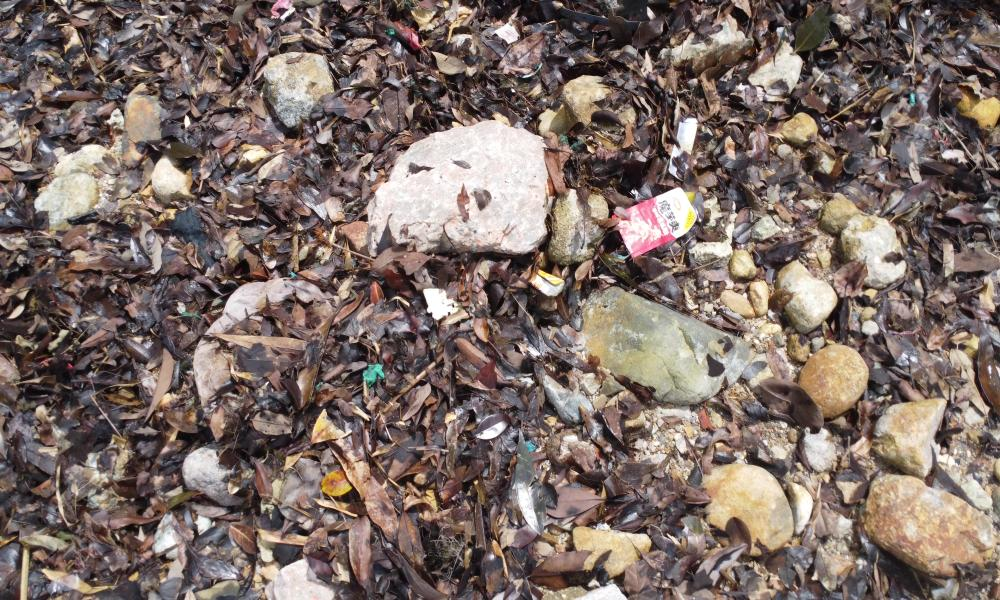plastic container: (616, 188, 696, 252)
